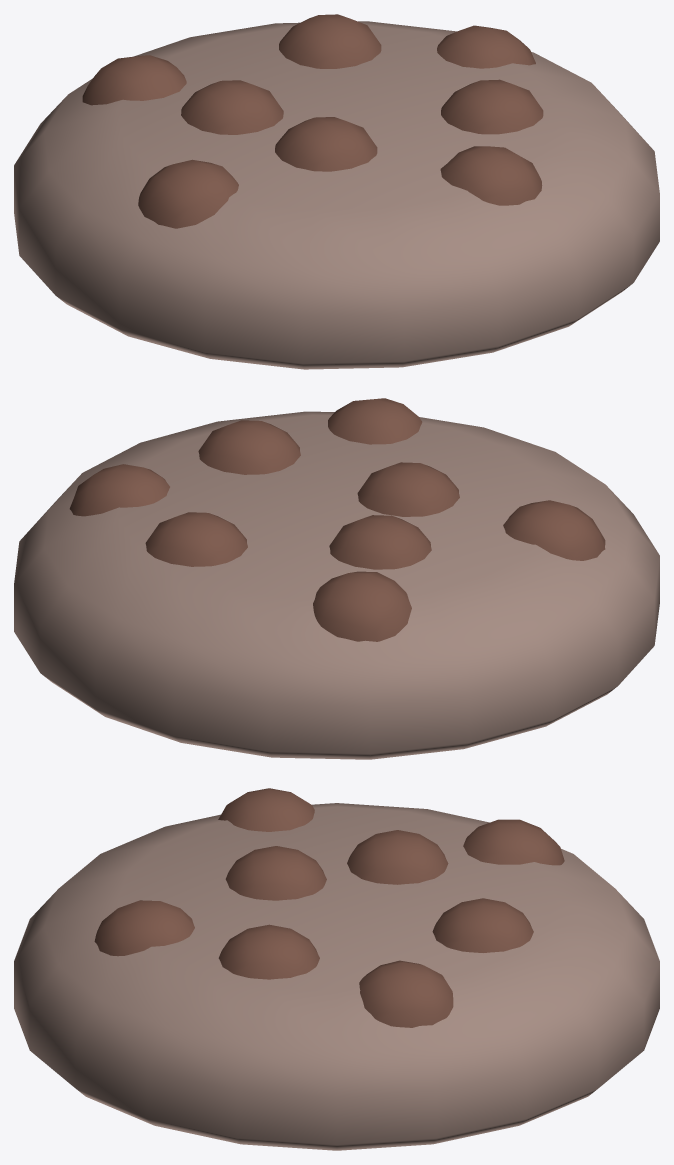
The model's file is Cookie_2.fbx.
The picture shows the model from 3 angles, top to bottom: view 1: azimuth 30°, elevation 25°; view 2: azimuth 150°, elevation 25°; view 3: azimuth 270°, elevation 25°; orthographic projection.
Parts seen in each view (by area): view 1: Cookie_2; view 2: Cookie_2; view 3: Cookie_2.
Part boxes in pixels (x1=…): Cookie_2: x1=14, y1=14, x2=659, y2=369; Cookie_2: x1=14, y1=398, x2=659, y2=759; Cookie_2: x1=14, y1=788, x2=659, y2=1150.
Bounding box in the file's own units: 15.49 × 3.9 × 15.49.
